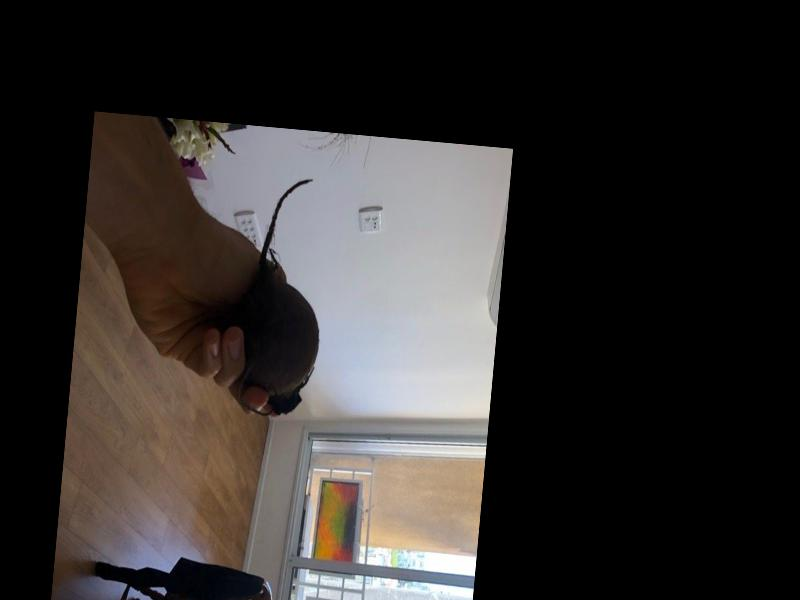Beet: (232, 176, 332, 421)
